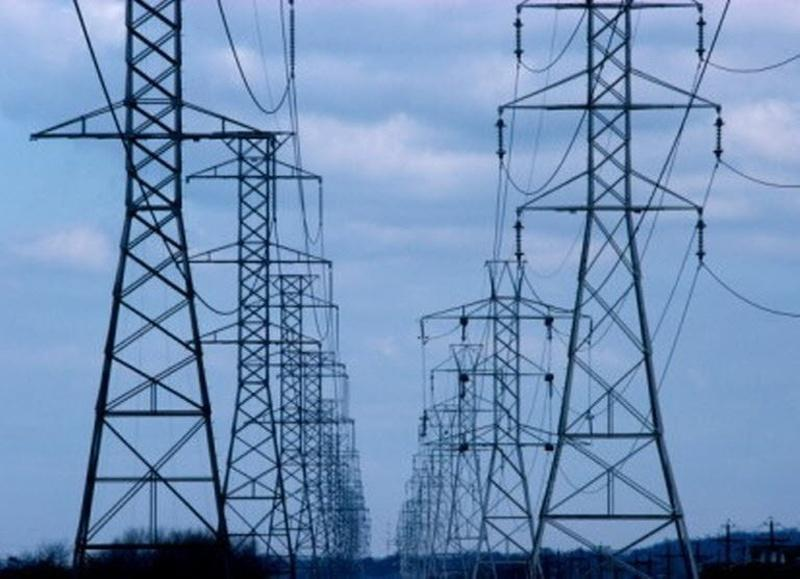power_tower: (28, 0, 303, 577), (490, 0, 724, 578), (414, 255, 600, 578), (189, 122, 320, 545), (243, 272, 342, 544), (276, 348, 350, 579), (429, 341, 505, 544), (419, 389, 488, 579)
